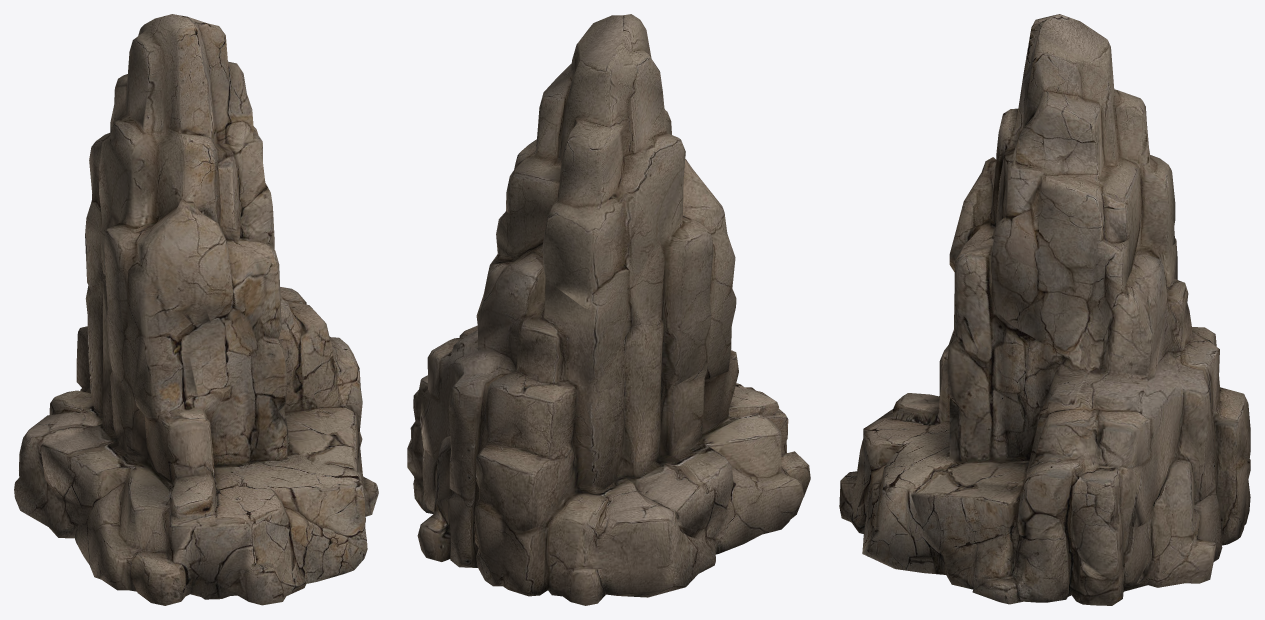
The model's file is Formacion_rocosa_1.glb.
3 views of the same model, side by side, from view 1: azimuth 30°, elevation 25°; view 2: azimuth 150°, elevation 25°; view 3: azimuth 270°, elevation 25° (orthographic).
Parts seen in each view (by area): view 1: tripo_node_384e82d1-2ece-4912-9d78-4123ce58bbf4; view 2: tripo_node_384e82d1-2ece-4912-9d78-4123ce58bbf4; view 3: tripo_node_384e82d1-2ece-4912-9d78-4123ce58bbf4.
Part boxes in pixels (x1,y1,x2,y2): tripo_node_384e82d1-2ece-4912-9d78-4123ce58bbf4: [14, 14, 378, 605]; tripo_node_384e82d1-2ece-4912-9d78-4123ce58bbf4: [407, 14, 810, 605]; tripo_node_384e82d1-2ece-4912-9d78-4123ce58bbf4: [839, 14, 1250, 605].
Size of the model in its own units: 0.6387 by 0.998 by 0.7363.
Materials: 1 (1 with a texture image).
